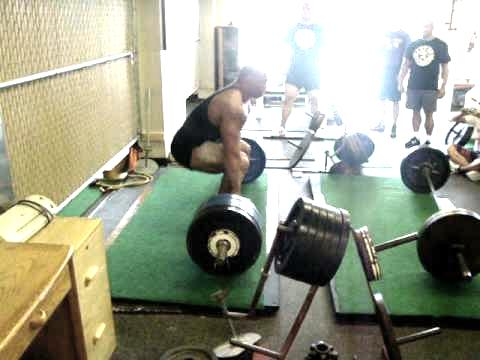Barbell: (216, 254, 227, 267)
